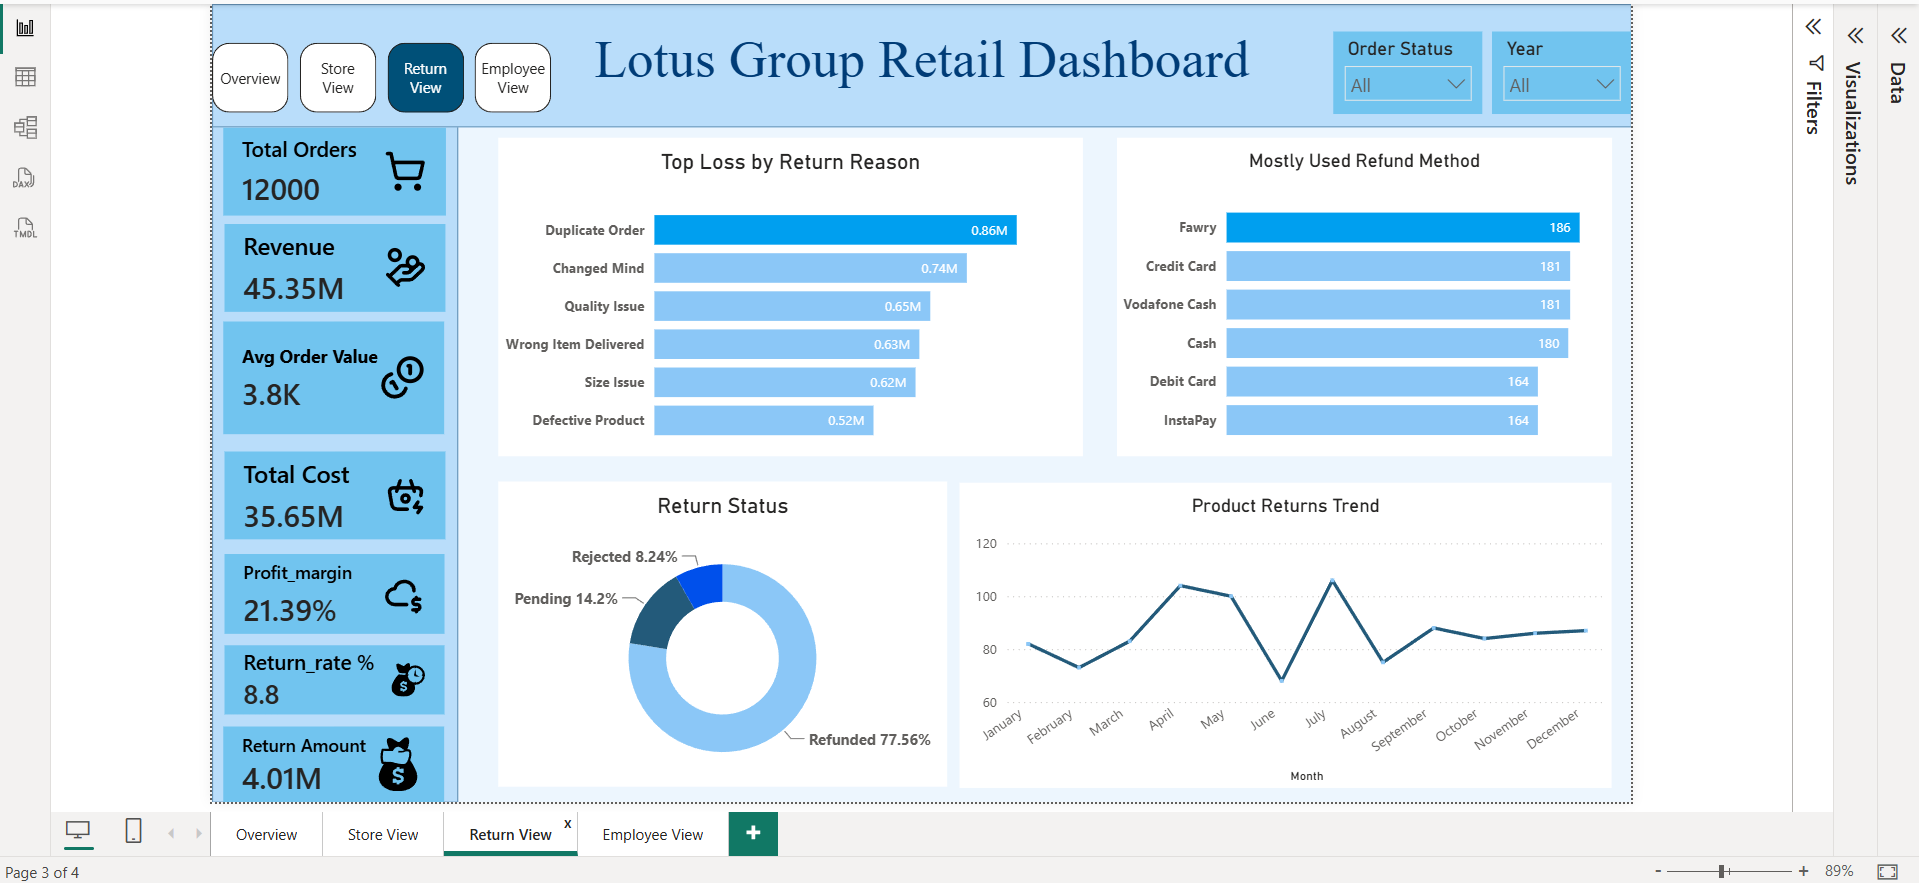

This screenshot's page, from the dashboard's own definition file:
{"tool":"powerbi","page":{"name":"Return View","canvas":[1280,720],"ordinal":2},"visuals":[{"type":"shape","box":[0,0,222,720.2],"z":0},{"type":"shape","box":[0,0,1280.3,111.3],"z":1000},{"type":"textbox","box":[0,0,1280.3,111.3],"z":2000},{"type":"slicer","fields":{"Values":["dim_date.year"]},"box":[1154.4,24.5,126,74.6],"z":3000},{"type":"clusteredBarChart","title":"Top Loss by Return Reason","fields":{"Category":["fact_returns.return_reason"],"Y":["Sum(fact_returns.return_amount)"]},"box":[258,121.1,527,287.4],"z":4000},{"type":"clusteredBarChart","title":"Mostly Used Refund Method","fields":{"Category":["fact_returns.refund_method"],"Y":["Count(fact_returns.return_id)"]},"box":[815.6,121.1,446.3,287.4],"z":5000},{"type":"donutChart","title":"Return Status","fields":{"Category":["fact_returns.return_status"],"Y":["Count(fact_returns.return_id)"]},"box":[258,430.4,404.8,275.1],"z":6000},{"type":"lineChart","title":"Product Returns Trend","fields":{"Category":["fact_returns.return_date.Variation.Date Hierarchy.Month","fact_returns.return_date.Variation.Date Hierarchy.Day"],"Y":["Count(fact_returns.return_id)"]},"box":[673.8,431.7,588.2,275.1],"z":7000},{"type":"pageNavigator","box":[0,35.5,306.9,63.6],"z":8000},{"type":"slicer","fields":{"Values":["updated_fact_orders_2022_2023_and_2024.order_status"]},"box":[1011.3,24.5,134.5,74.6],"z":9000},{"type":"cardVisual","fields":{"Data":["CountNonNull(updated_fact_orders_2022_2023_and_2024.order_id)"]},"box":[10.1,111.6,200.6,78.9],"z":10000},{"type":"cardVisual","fields":{"Data":["fact_order_details.Average_order_value"]},"box":[9.8,286.1,199.3,101.5],"z":11000},{"type":"cardVisual","fields":{"Data":["updated_fact_orders_2022_2023_and_2024.Profit_margin"]},"box":[11.3,496,198.1,72.1],"z":12000},{"type":"cardVisual","fields":{"Data":["Sum(updated_fact_orders_2022_2023_and_2024.total_cost)"]},"box":[11,403.5,199.3,79.5],"z":13000},{"type":"cardVisual","fields":{"Data":["Sum(updated_fact_orders_2022_2023_and_2024.total_revenue)"]},"box":[11.3,198.4,199.5,78.9],"z":14000},{"type":"cardVisual","fields":{"Data":["Sum(fact_returns.return_amount)"]},"box":[9.8,651.5,199.3,68.5],"z":15000},{"type":"cardVisual","fields":{"Data":["fact_returns.Return_rate"]},"box":[11,578.4,198.1,62.4],"z":16000}]}

Visuals, with their boxes on the page's 1280x720 design canvas (x1, y1, x2, y2). These are canvas units, not pixel positions in the 1919x883 screenshot, which may show the page scaled, cropped or inside an application window:
shape: locate(0, 0, 222, 720)
shape: locate(0, 0, 1280, 111)
textbox: locate(0, 0, 1280, 111)
slicer - dim_date.year: locate(1154, 24, 1280, 99)
"Top Loss by Return Reason" clusteredBarChart: locate(258, 121, 785, 408)
"Mostly Used Refund Method" clusteredBarChart: locate(816, 121, 1262, 408)
"Return Status" donutChart: locate(258, 430, 663, 706)
"Product Returns Trend" lineChart: locate(674, 432, 1262, 707)
pageNavigator: locate(0, 36, 307, 99)
slicer - updated_fact_orders_2022_2023_and_2024.order_status: locate(1011, 24, 1146, 99)
cardVisual - CountNonNull(updated_fact_orders_2022_2023_and_2024.order_id): locate(10, 112, 211, 190)
cardVisual - fact_order_details.Average_order_value: locate(10, 286, 209, 388)
cardVisual - updated_fact_orders_2022_2023_and_2024.Profit_margin: locate(11, 496, 209, 568)
cardVisual - Sum(updated_fact_orders_2022_2023_and_2024.total_cost): locate(11, 404, 210, 483)
cardVisual - Sum(updated_fact_orders_2022_2023_and_2024.total_revenue): locate(11, 198, 211, 277)
cardVisual - Sum(fact_returns.return_amount): locate(10, 652, 209, 720)
cardVisual - fact_returns.Return_rate: locate(11, 578, 209, 641)
